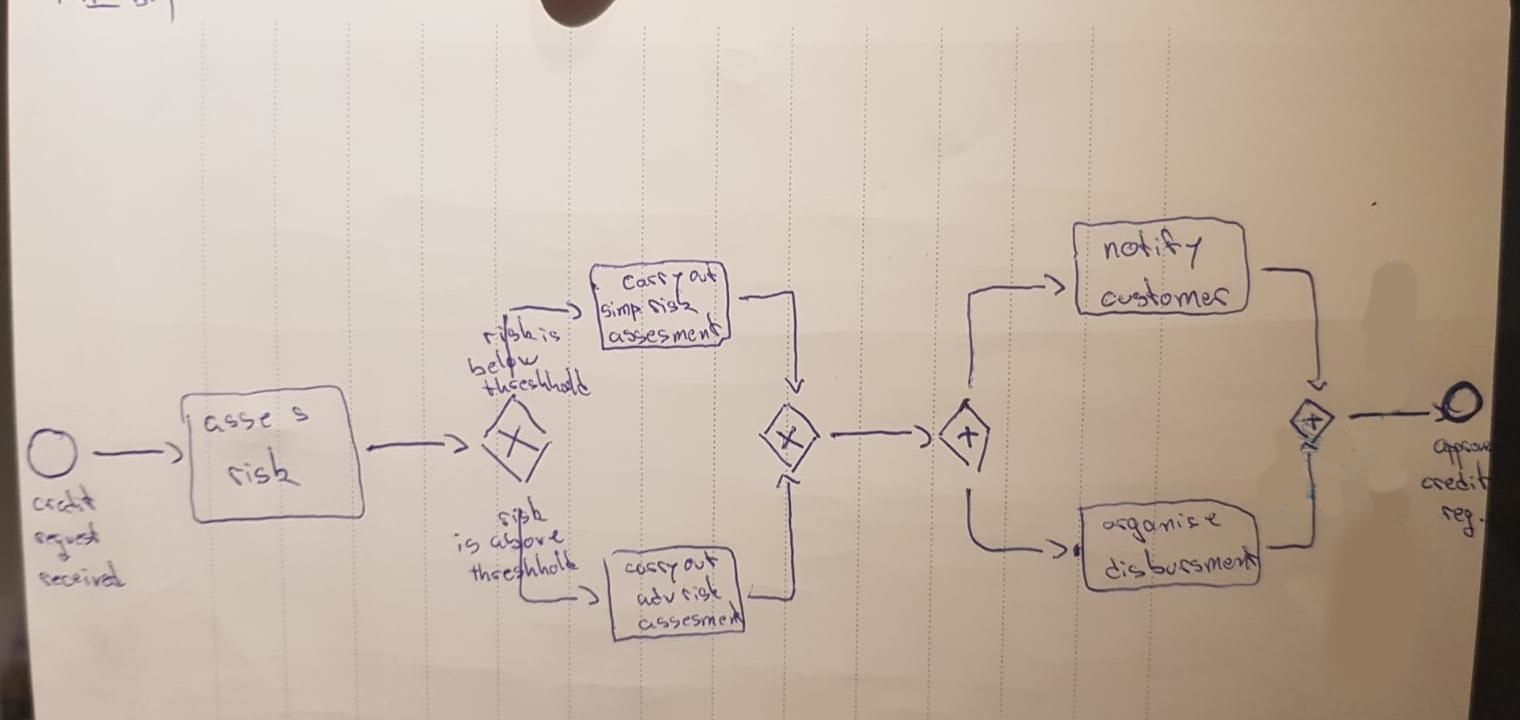ablove: (486, 526, 569, 554)
adv: (633, 583, 678, 611)
approve: (1430, 434, 1494, 469)
asses: (199, 401, 314, 439)
assesment: (604, 309, 724, 347), (634, 598, 746, 636)
below: (464, 345, 545, 381)
carry: (618, 266, 686, 297)
cassy: (622, 556, 680, 588)
credit: (1416, 460, 1491, 495), (27, 483, 101, 518)
customer: (1094, 273, 1236, 314)
disbursment: (1100, 542, 1263, 584)
is: (450, 530, 485, 558), (535, 323, 564, 348)
notify: (1099, 224, 1207, 276)
organise: (1097, 507, 1227, 547)
out: (681, 549, 722, 576), (686, 260, 722, 287)
received: (35, 557, 130, 594)
reg.: (1438, 503, 1488, 541)
request: (31, 520, 104, 566)
risk: (220, 443, 307, 490), (494, 492, 552, 531), (480, 313, 541, 348), (676, 572, 726, 606), (644, 290, 703, 318)
simp: (599, 298, 647, 324)
threshhold: (468, 546, 579, 587), (479, 363, 596, 401)
